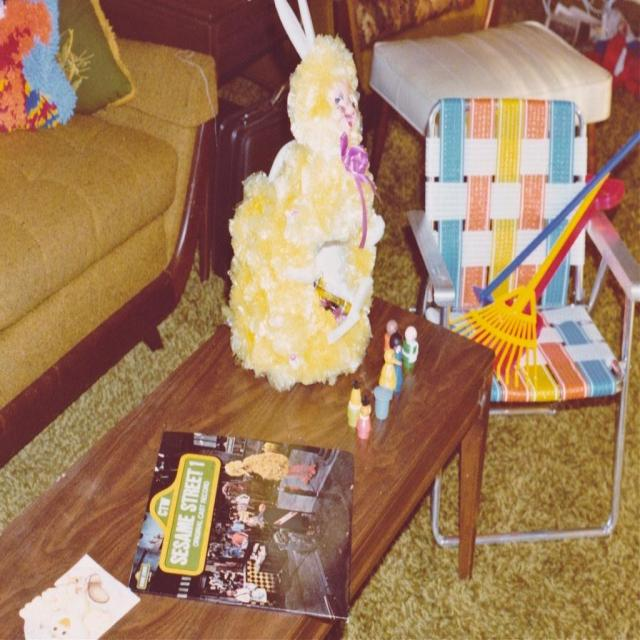Table: (0, 286, 496, 640)
